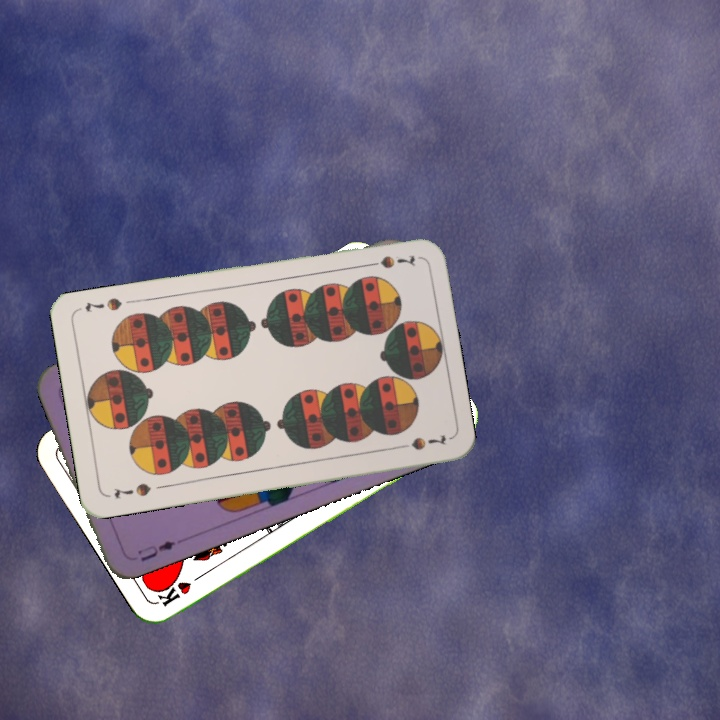EU: (133, 535, 184, 564)
HK: (153, 568, 208, 609)
S7: (361, 250, 418, 271), (110, 479, 153, 501)
